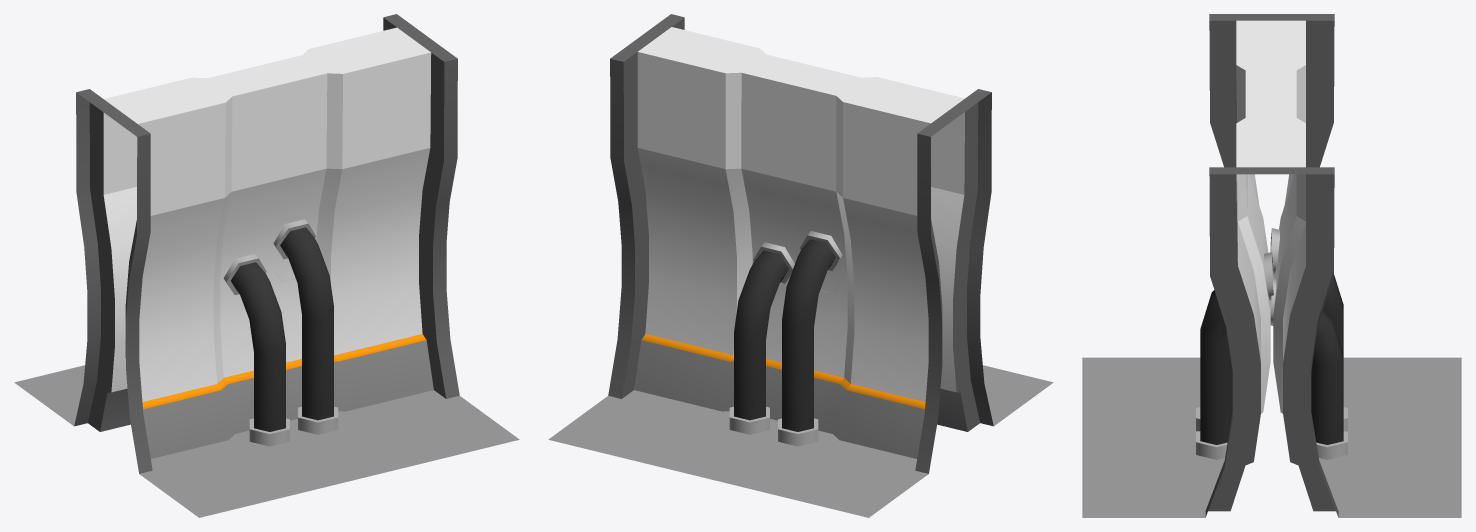
Rendered from SM_InteriorWall_06.fbx.
The picture shows the model from 3 angles, left to right: view 1: azimuth 30°, elevation 25°; view 2: azimuth 150°, elevation 25°; view 3: azimuth 270°, elevation 25°; orthographic projection. The views are drawn at different scales.
Visible parts, largest first — view 1: SM_InteriorWall_06; view 2: SM_InteriorWall_06; view 3: SM_InteriorWall_06.
Part boxes in pixels (x1,y1,x2,y2): SM_InteriorWall_06: (14,14,519,517); SM_InteriorWall_06: (548,14,1053,517); SM_InteriorWall_06: (1082,14,1461,517).
Bounding box in the file's own units: 200 × 200 × 200.
1 material, 1 textured.
